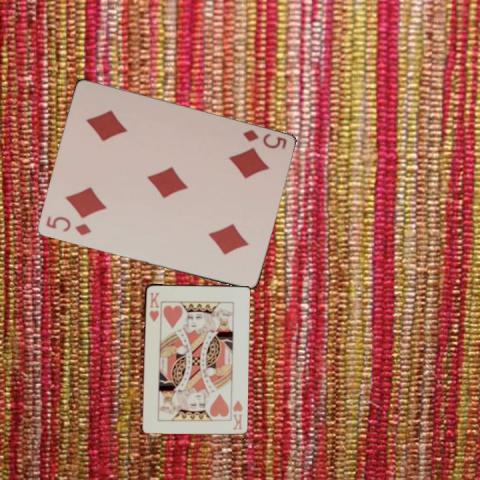5d: (43, 213, 92, 237), (240, 126, 288, 150)
Kh: (146, 289, 161, 323), (230, 397, 244, 431)
